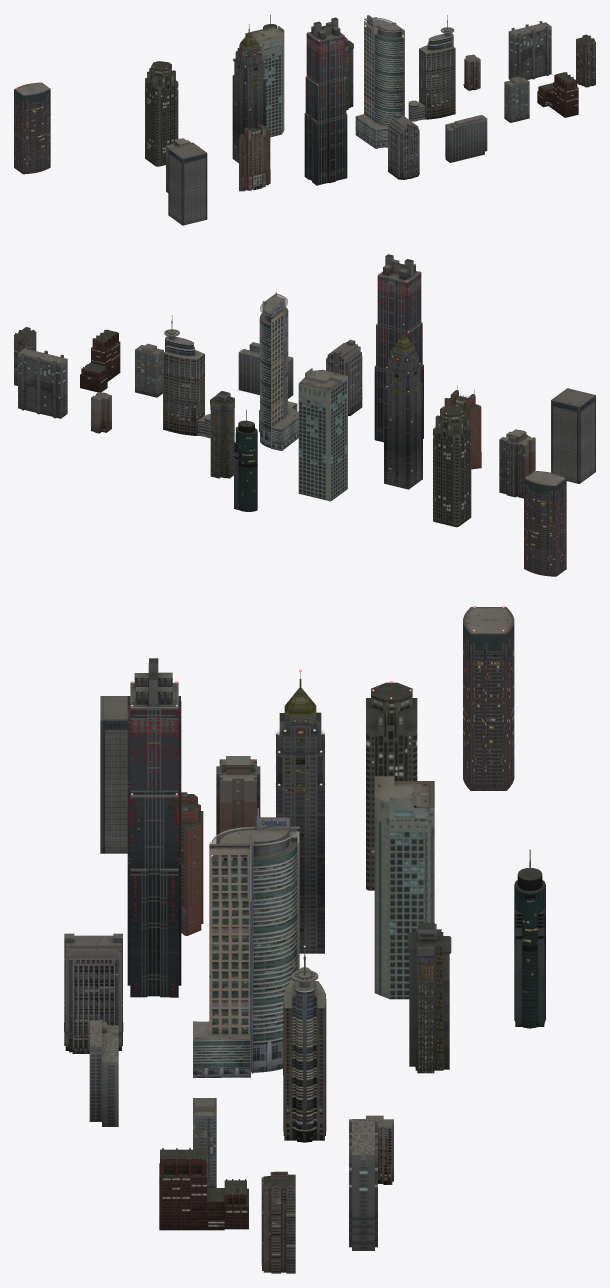
Rendered from asian-night.glb.
3 views of the same model, one above another, from view 1: azimuth 30°, elevation 25°; view 2: azimuth 150°, elevation 25°; view 3: azimuth 270°, elevation 25° (orthographic). The views are drawn at different scales.
Parts seen in each view (by area): view 1: BACKGROUND_BUILDINGS_1.009, BACKGROUND_BUILDING_2, BACKGROUND_BUILDINGS_1, BACKGROUND_BUILDINGS_1.007, BACKGROUND_BUILDING_2.008, BACKGROUND_BUILDINGS_1.008, BACKGROUND_BUILDINGS_1.002, BACKGROUND_BUILDING_2.007, BACKGROUND_BUILDING_2.005, BACKGROUND_BUILDINGS_1.004, BACKGROUND_BUILDING_2.001, BACKGROUND_BUILDING_2.002 (+5 smaller); view 2: BACKGROUND_BUILDING_2.007, BACKGROUND_BUILDINGS_1.008, BACKGROUND_BUILDINGS_1.009, BACKGROUND_BUILDING_2, BACKGROUND_BUILDING_2.008, BACKGROUND_BUILDINGS_1.007, BACKGROUND_BUILDINGS_1, BACKGROUND_BUILDINGS_1.002, BACKGROUND_BUILDING_2.005, BACKGROUND_BUILDINGS_1.001, BACKGROUND_BUILDINGS_1.003, BACKGROUND_BUILDINGS_1.006 (+7 smaller); view 3: BACKGROUND_BUILDING_2, BACKGROUND_BUILDINGS_1.009, BACKGROUND_BUILDING_2.007, BACKGROUND_BUILDINGS_1.007, BACKGROUND_BUILDINGS_1.008, BACKGROUND_BUILDINGS_1, BACKGROUND_BUILDING_2.001, BACKGROUND_BUILDINGS_1.006, BACKGROUND_BUILDING_2.004, BACKGROUND_BUILDING_2.008, BACKGROUND_BUILDINGS_1.001, BACKGROUND_BUILDINGS_1.002 (+7 smaller).
Part boxes in pixels (<box>): BACKGROUND_BUILDINGS_1.009: <box>304,17,347,185</box>; BACKGROUND_BUILDING_2: <box>355,15,404,148</box>; BACKGROUND_BUILDINGS_1: <box>408,16,455,121</box>; BACKGROUND_BUILDINGS_1.007: <box>14,82,50,174</box>; BACKGROUND_BUILDING_2.008: <box>145,61,178,166</box>; BACKGROUND_BUILDINGS_1.008: <box>232,25,265,162</box>; BACKGROUND_BUILDINGS_1.002: <box>168,142,207,225</box>; BACKGROUND_BUILDING_2.007: <box>245,26,284,137</box>; BACKGROUND_BUILDING_2.005: <box>508,21,551,80</box>; BACKGROUND_BUILDINGS_1.004: <box>239,124,270,191</box>; BACKGROUND_BUILDING_2.001: <box>388,113,419,179</box>; BACKGROUND_BUILDING_2.002: <box>445,115,487,162</box>; BACKGROUND_BUILDING_2.007: <box>298,368,347,501</box>; BACKGROUND_BUILDINGS_1.008: <box>384,325,422,489</box>; BACKGROUND_BUILDINGS_1.009: <box>374,254,423,442</box>; BACKGROUND_BUILDING_2: <box>259,293,298,450</box>; BACKGROUND_BUILDING_2.008: <box>433,405,471,527</box>; BACKGROUND_BUILDINGS_1.007: <box>524,471,566,576</box>; BACKGROUND_BUILDINGS_1: <box>163,316,210,438</box>; BACKGROUND_BUILDINGS_1.002: <box>551,388,595,483</box>; BACKGROUND_BUILDING_2.005: <box>18,346,67,418</box>; BACKGROUND_BUILDINGS_1.001: <box>234,409,257,511</box>; BACKGROUND_BUILDINGS_1.003: <box>499,429,535,498</box>; BACKGROUND_BUILDINGS_1.006: <box>210,391,234,478</box>; BACKGROUND_BUILDING_2: <box>193,808,299,1077</box>; BACKGROUND_BUILDINGS_1.009: <box>127,658,181,997</box>; BACKGROUND_BUILDING_2.007: <box>374,776,434,999</box>; BACKGROUND_BUILDINGS_1.007: <box>463,607,514,790</box>; BACKGROUND_BUILDINGS_1.008: <box>276,672,324,953</box>; BACKGROUND_BUILDINGS_1: <box>283,947,326,1142</box>; BACKGROUND_BUILDING_2.001: <box>64,933,123,1053</box>; BACKGROUND_BUILDINGS_1.006: <box>407,923,451,1073</box>; BACKGROUND_BUILDING_2.004: <box>159,1148,248,1230</box>; BACKGROUND_BUILDING_2.008: <box>366,682,417,890</box>; BACKGROUND_BUILDINGS_1.001: <box>514,849,545,1028</box>; BACKGROUND_BUILDINGS_1.002: <box>100,696,127,853</box>.
Bounding box in the file's own units: 1049 × 301 × 419.
Materials: 4 (4 with a texture image).
